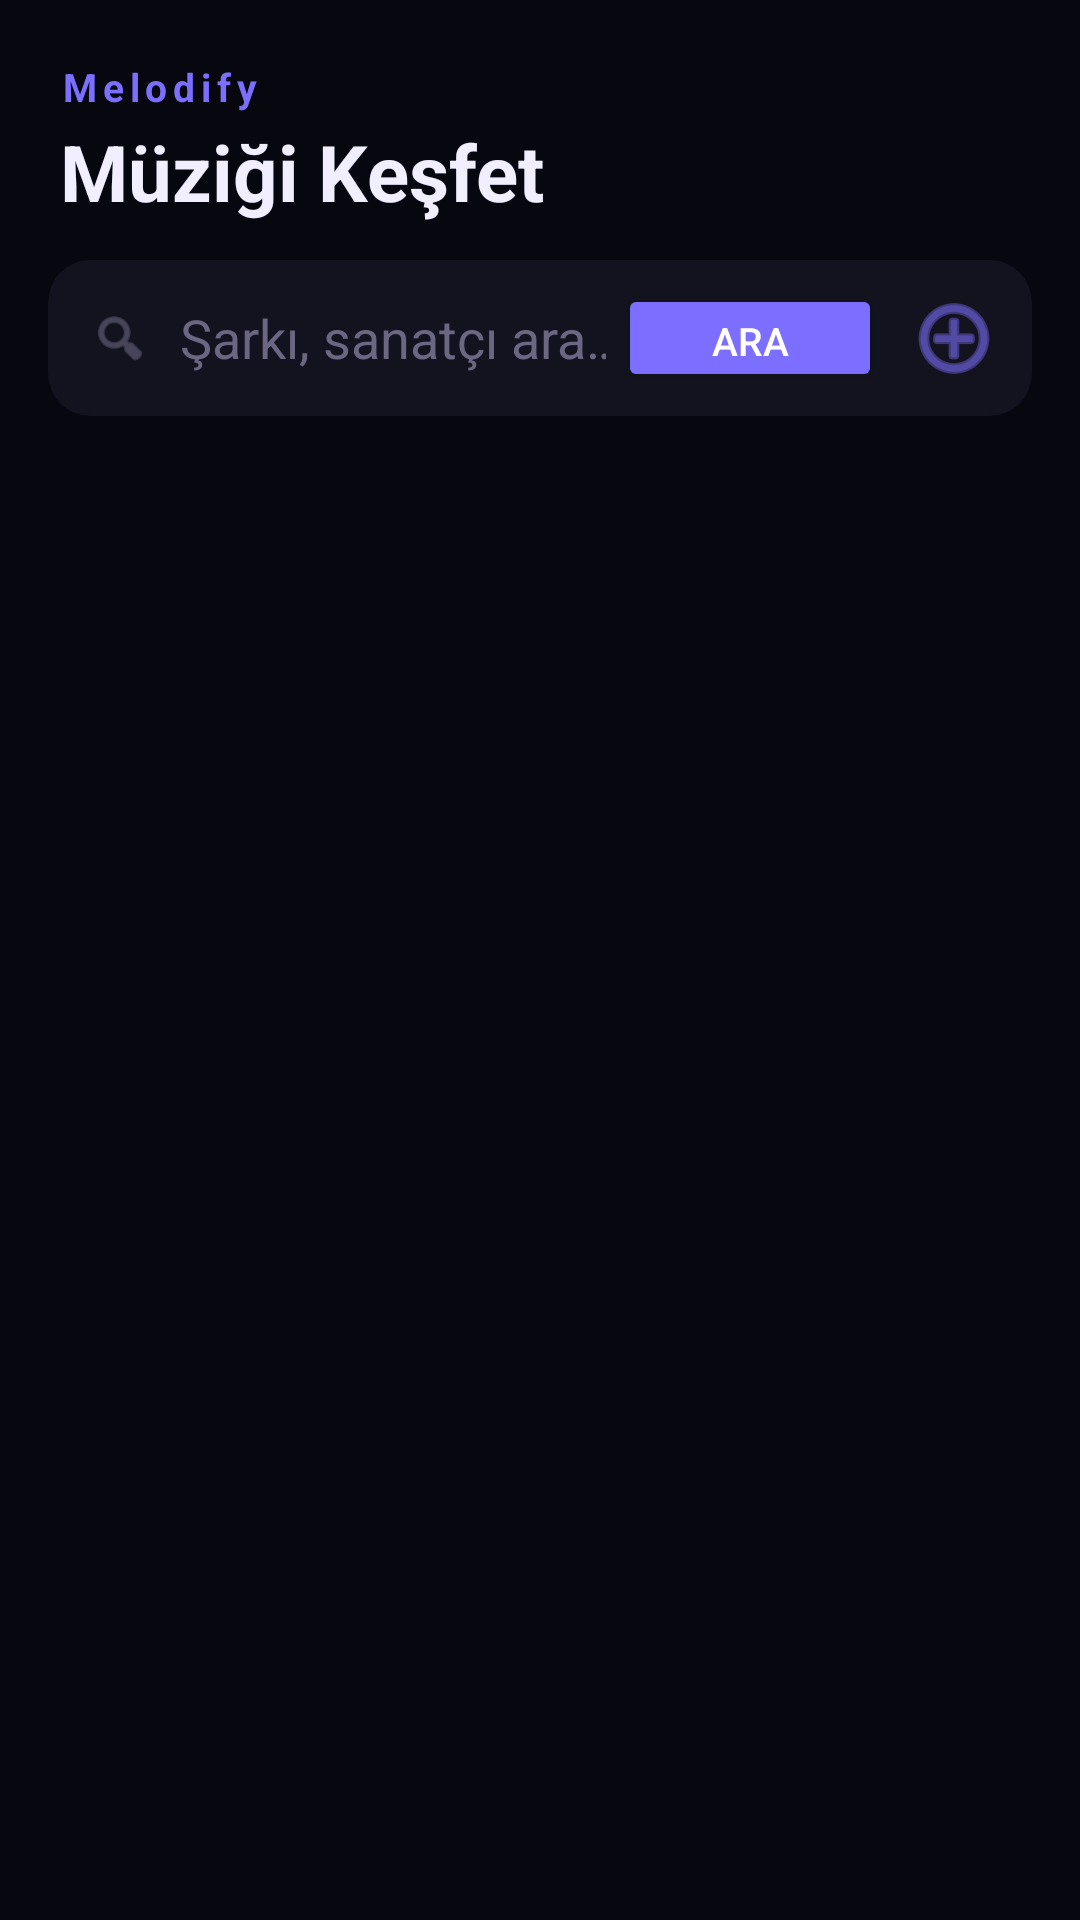

Named icons in this screenshot (1080w x 1920h) and their centers, point (x, y):
search: point (120, 338)
YouTube Playlist İçe Aktar: point (954, 338)
